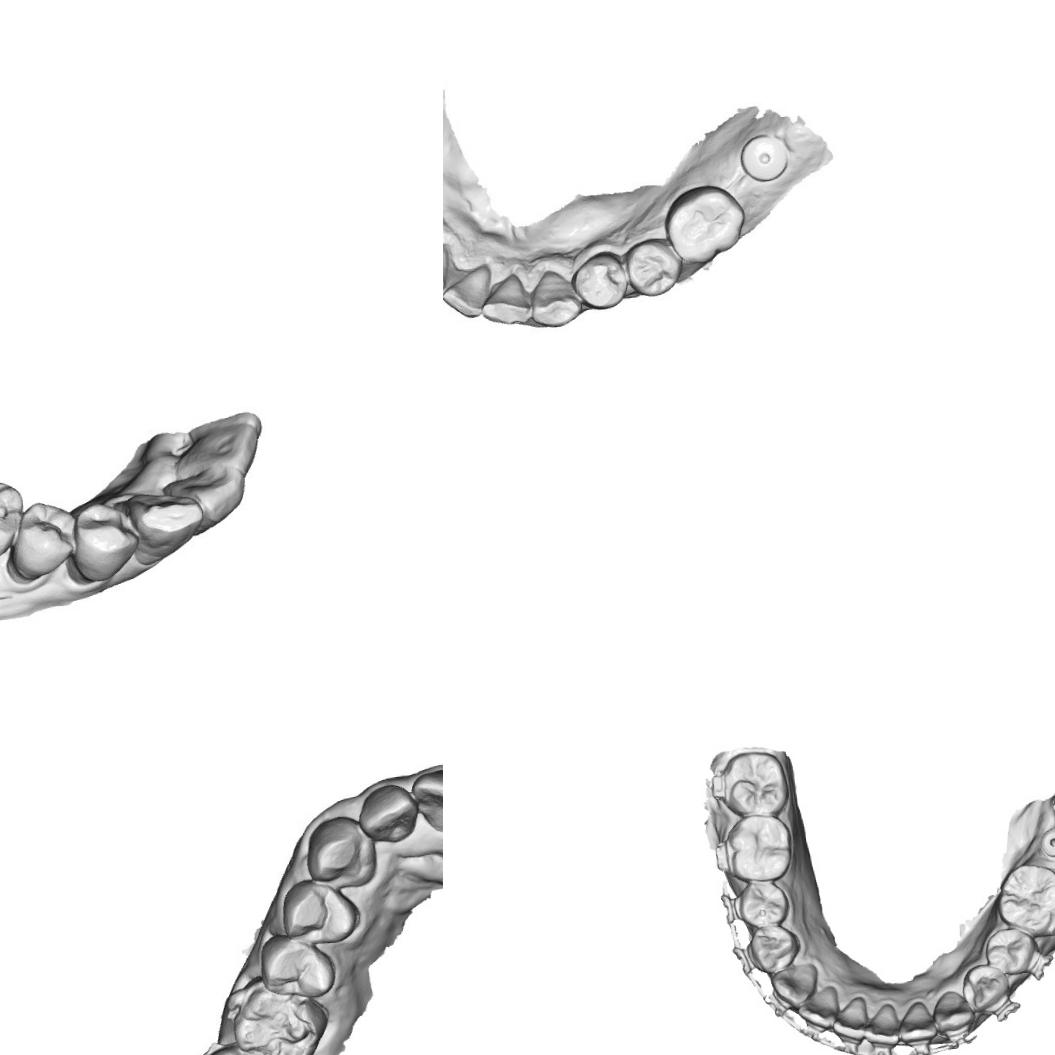canine: (129, 482, 207, 563), (307, 816, 373, 888), (531, 270, 586, 324), (766, 960, 821, 1008), (929, 986, 976, 1034)
implant: (737, 122, 796, 191), (1036, 823, 1055, 861)
incisor: (167, 419, 266, 492), (162, 458, 250, 530), (361, 782, 417, 844), (479, 274, 535, 328), (445, 262, 497, 312), (413, 763, 443, 841), (794, 983, 840, 1032), (828, 993, 869, 1043), (895, 998, 938, 1044), (861, 1000, 901, 1048), (443, 243, 460, 291)
molar: (229, 979, 328, 1055), (664, 180, 741, 267), (721, 812, 796, 885), (717, 747, 791, 820), (993, 858, 1055, 938), (0, 461, 25, 580)
premolar: (66, 499, 142, 586), (5, 497, 79, 582), (279, 877, 362, 946), (261, 932, 336, 998), (575, 248, 628, 306), (982, 924, 1038, 978), (628, 238, 681, 294), (958, 960, 1012, 1013), (746, 923, 802, 974), (736, 878, 792, 928)
